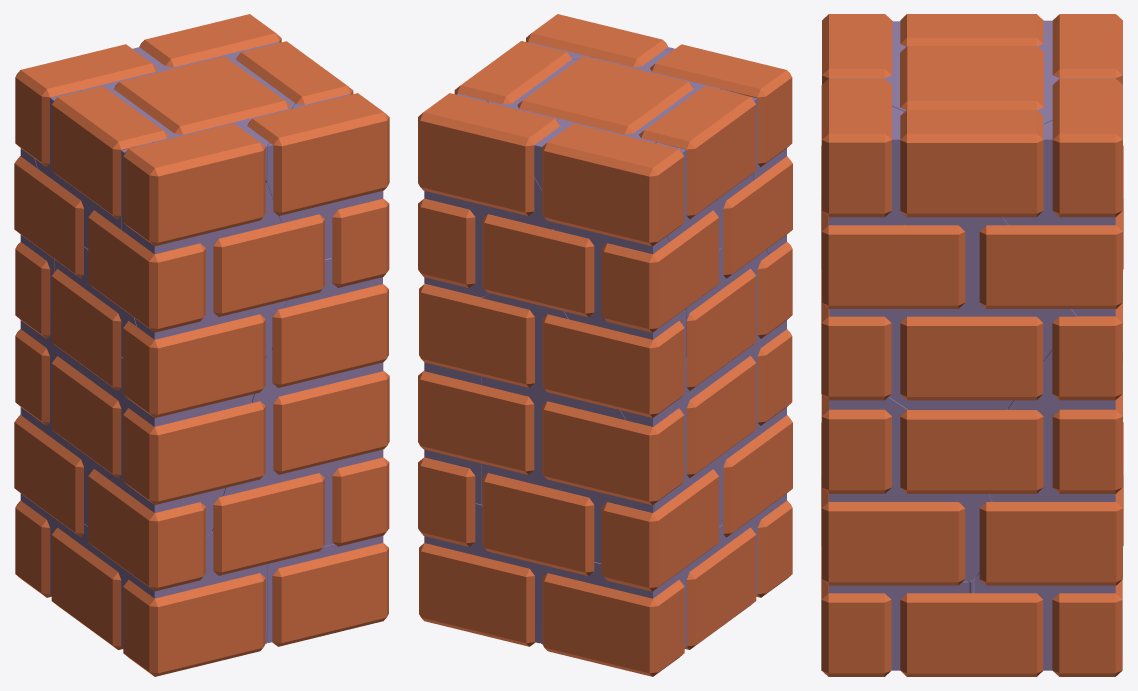
The model's file is Brick_wall (1).fbx.
3 views of the same model, side by side, from view 1: azimuth 30°, elevation 25°; view 2: azimuth 150°, elevation 25°; view 3: azimuth 270°, elevation 25° (orthographic). The views are drawn at different scales.
Parts seen in each view (by area): view 1: BrickWall_003, BrickWall_007, BrickWall_011, BrickWall_015, BrickWall_023, BrickWall_013, BrickWall_010, BrickWall_006, BrickWall_004, BrickWall_022, BrickWall_012, BrickWall_021 (+6 smaller); view 2: BrickWall_009, BrickWall_012, BrickWall_003, BrickWall_013, BrickWall_016, BrickWall_002, BrickWall_017, BrickWall_011, BrickWall_014, BrickWall_006, BrickWall_004, BrickWall_018 (+6 smaller); view 3: BrickWall_005, BrickWall_007, BrickWall_016, BrickWall_014, BrickWall_002, BrickWall_010, BrickWall_020, BrickWall_015, BrickWall_006, BrickWall_009, BrickWall_011, BrickWall_004 (+1 smaller).
Boxes of the visible parts, bbox=[...] form: BrickWall_003: bbox=[14, 313, 265, 536]; BrickWall_007: bbox=[212, 284, 389, 575]; BrickWall_011: bbox=[88, 123, 286, 356]; BrickWall_015: bbox=[247, 93, 389, 259]; BrickWall_023: bbox=[123, 573, 265, 676]; BrickWall_013: bbox=[15, 493, 267, 649]; BrickWall_010: bbox=[267, 536, 388, 646]; BrickWall_006: bbox=[80, 47, 295, 184]; BrickWall_004: bbox=[35, 86, 168, 248]; BrickWall_022: bbox=[88, 469, 205, 591]; BrickWall_012: bbox=[14, 148, 84, 340]; BrickWall_021: bbox=[213, 214, 324, 316]; BrickWall_009: bbox=[419, 284, 684, 563]; BrickWall_012: bbox=[542, 210, 718, 426]; BrickWall_003: bbox=[601, 242, 792, 591]; BrickWall_013: bbox=[540, 493, 786, 676]; BrickWall_016: bbox=[418, 93, 559, 297]; BrickWall_002: bbox=[418, 457, 539, 646]; BrickWall_017: bbox=[542, 123, 684, 246]; BrickWall_011: bbox=[650, 44, 792, 278]; BrickWall_014: bbox=[418, 362, 534, 504]; BrickWall_006: bbox=[488, 48, 720, 190]; BrickWall_004: bbox=[639, 85, 756, 249]; BrickWall_018: bbox=[482, 214, 594, 317]; BrickWall_005: bbox=[822, 211, 1076, 409]; BrickWall_007: bbox=[821, 269, 991, 585]; BrickWall_016: bbox=[979, 78, 1122, 316]; BrickWall_014: bbox=[900, 349, 1122, 501]; BrickWall_002: bbox=[974, 487, 1122, 676]; BrickWall_010: bbox=[821, 546, 1043, 676]; BrickWall_020: bbox=[900, 110, 1043, 217]; BrickWall_015: bbox=[821, 78, 915, 225]; BrickWall_006: bbox=[829, 36, 1115, 123]; BrickWall_009: bbox=[1052, 303, 1122, 400]; BrickWall_011: bbox=[822, 14, 900, 84]; BrickWall_004: bbox=[900, 14, 1052, 46].
Bounding box in the file's own units: 0.8436 × 1.7 × 0.8576.
